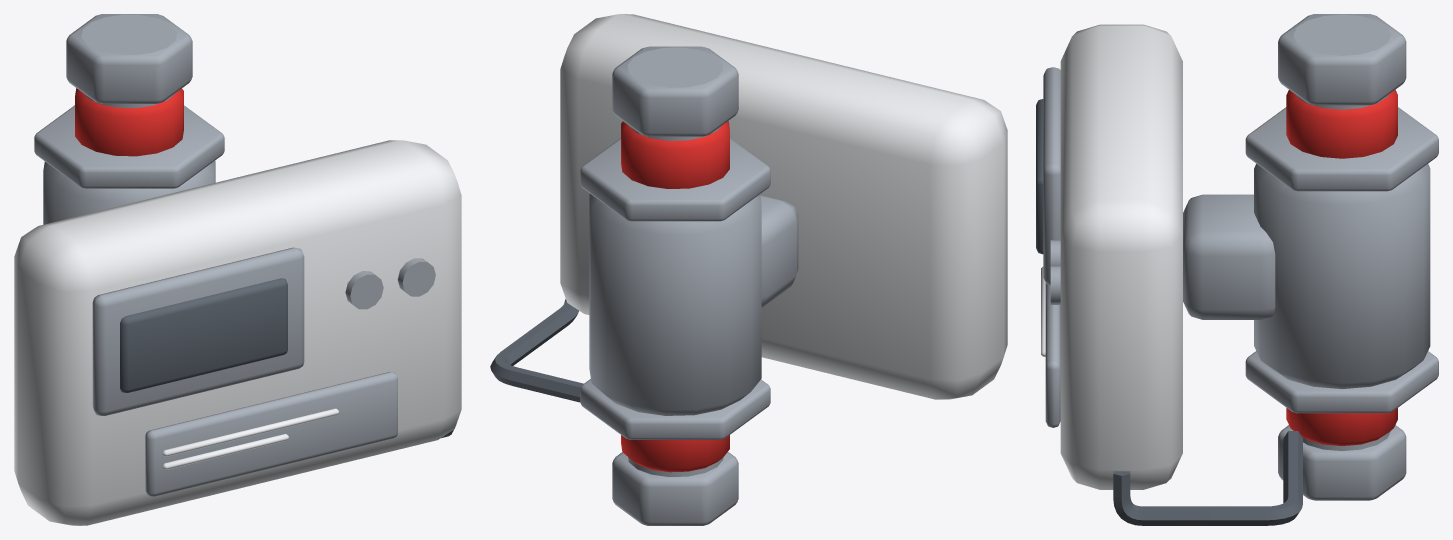
The model's file is heizung.wmz.glb.
3 renders of one model, left to right at view 1: azimuth 30°, elevation 25°; view 2: azimuth 150°, elevation 25°; view 3: azimuth 270°, elevation 25°, orthographic.
Parts seen in each view (by area): view 1: heizung.wmz; view 2: heizung.wmz; view 3: heizung.wmz.
Part boxes in pixels (x1,y1,x2,y2): heizung.wmz: (14,14,461,525); heizung.wmz: (490,14,1007,525); heizung.wmz: (1036,14,1438,525).
Bounding box in the file's own units: 0.204 × 0.2 × 0.1645.
